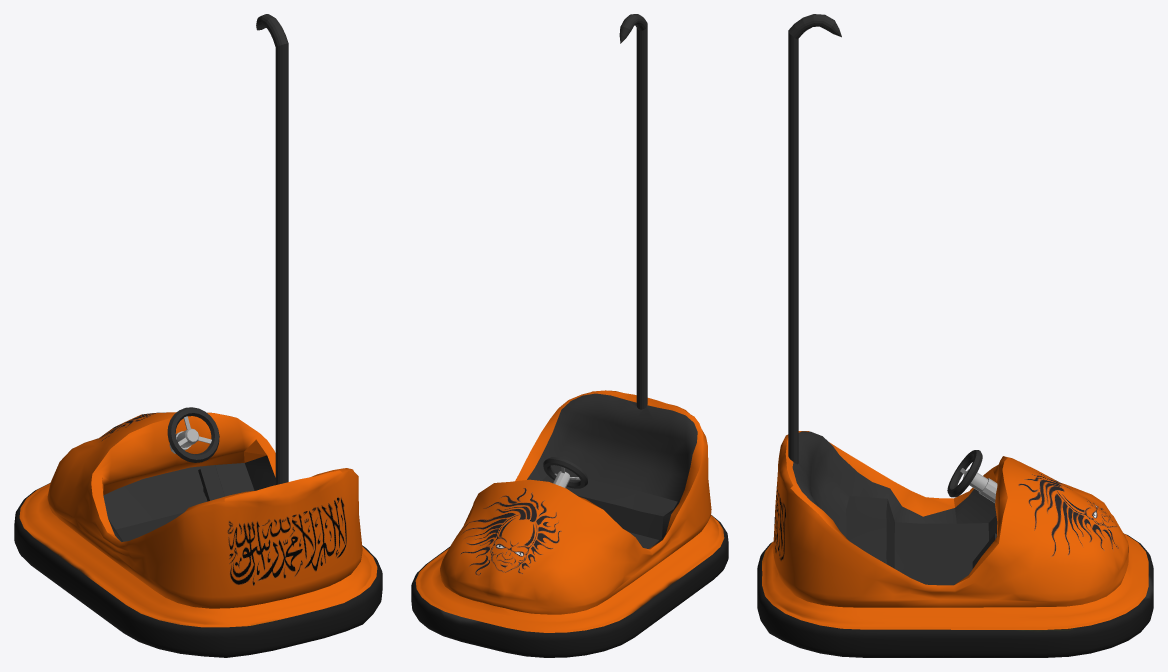
Rendered from newChocador.fbx.
The picture shows the model from 3 angles, left to right: view 1: azimuth 30°, elevation 25°; view 2: azimuth 150°, elevation 25°; view 3: azimuth 270°, elevation 25°; orthographic projection. The views are drawn at different scales.
Parts seen in each view (by area): view 1: newChocador; view 2: newChocador; view 3: newChocador.
Part boxes in pixels (left/top/right/bottom): newChocador: left=14, top=14, right=382, bottom=657; newChocador: left=411, top=14, right=728, bottom=657; newChocador: left=757, top=14, right=1153, bottom=657.
Size of the model in its own units: 59.84 by 141 by 86.27.
